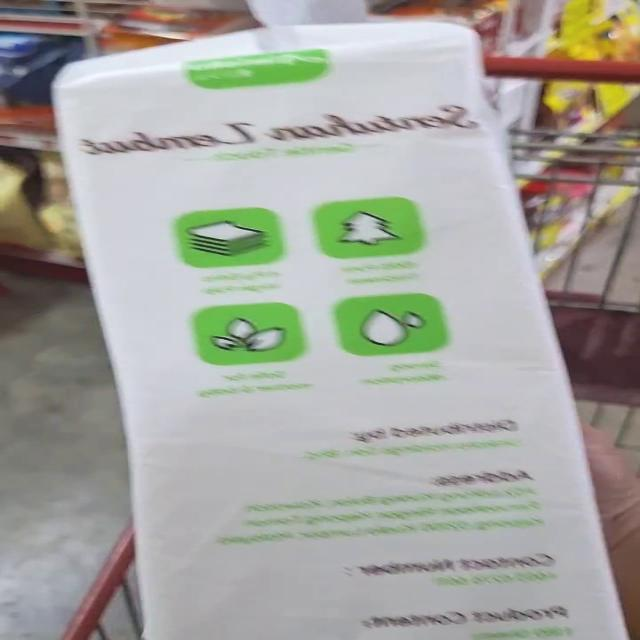Tisu: (46, 1, 557, 367), (113, 289, 609, 640)
